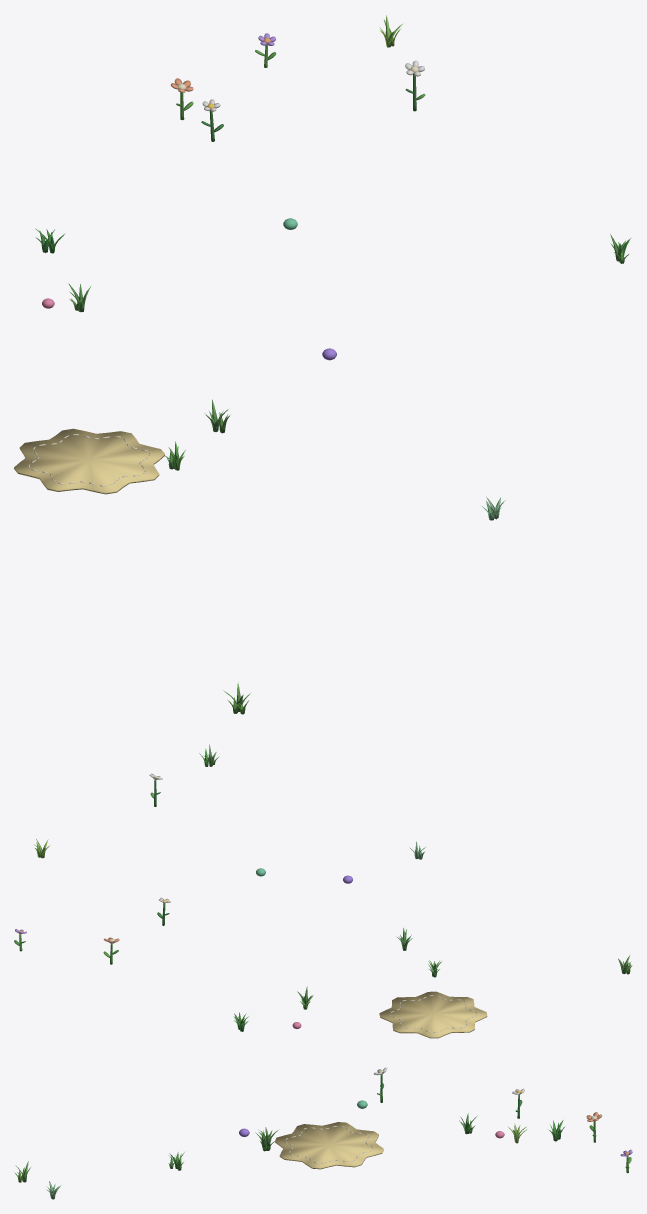
File: W4_FloraRing_12_9.fbx
3 renders of one model, top to bottom at view 1: azimuth 30°, elevation 25°; view 2: azimuth 150°, elevation 25°; view 3: azimuth 270°, elevation 25°, orthographic. The views are drawn at different scales.
Visible parts, largest first — view 1: W4_FloraRing_12_9; view 2: W4_FloraRing_12_9; view 3: W4_FloraRing_12_9.
Boxes of the visible parts, box(x1,y1,x2,y2) form: W4_FloraRing_12_9: box(14, 15, 631, 714); W4_FloraRing_12_9: box(14, 744, 632, 1038); W4_FloraRing_12_9: box(14, 1067, 632, 1199).
Bounding box in the file's own units: 2.65 × 1.78 × 3.81.
